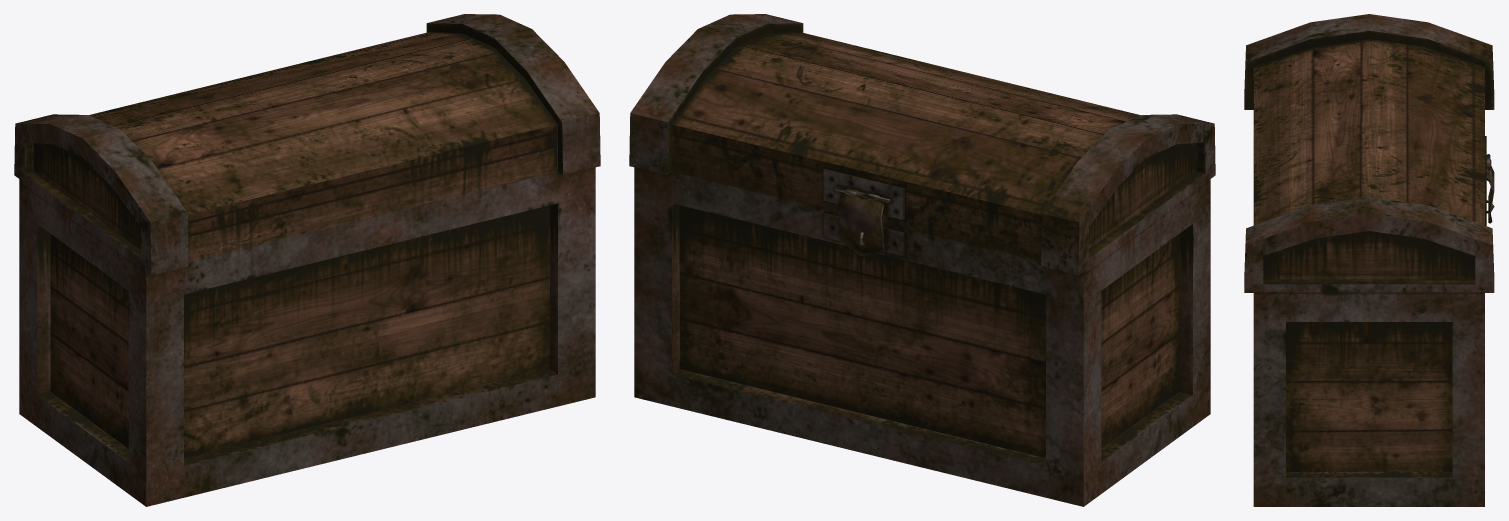
The model's file is Chest ok.fbx.
3 views of the same model, side by side, from view 1: azimuth 30°, elevation 25°; view 2: azimuth 150°, elevation 25°; view 3: azimuth 270°, elevation 25° (orthographic). The views are drawn at different scales.
Parts seen in each view (by area): view 1: Chest; view 2: Chest; view 3: Chest.
Boxes of the visible parts, left/top/right/bottom form: Chest: left=14, top=14, right=600, bottom=506; Chest: left=629, top=14, right=1215, bottom=506; Chest: left=1244, top=14, right=1494, bottom=506.
Bounding box in the file's own units: 120 × 82.17 × 63.56.
1 material, 1 textured.
